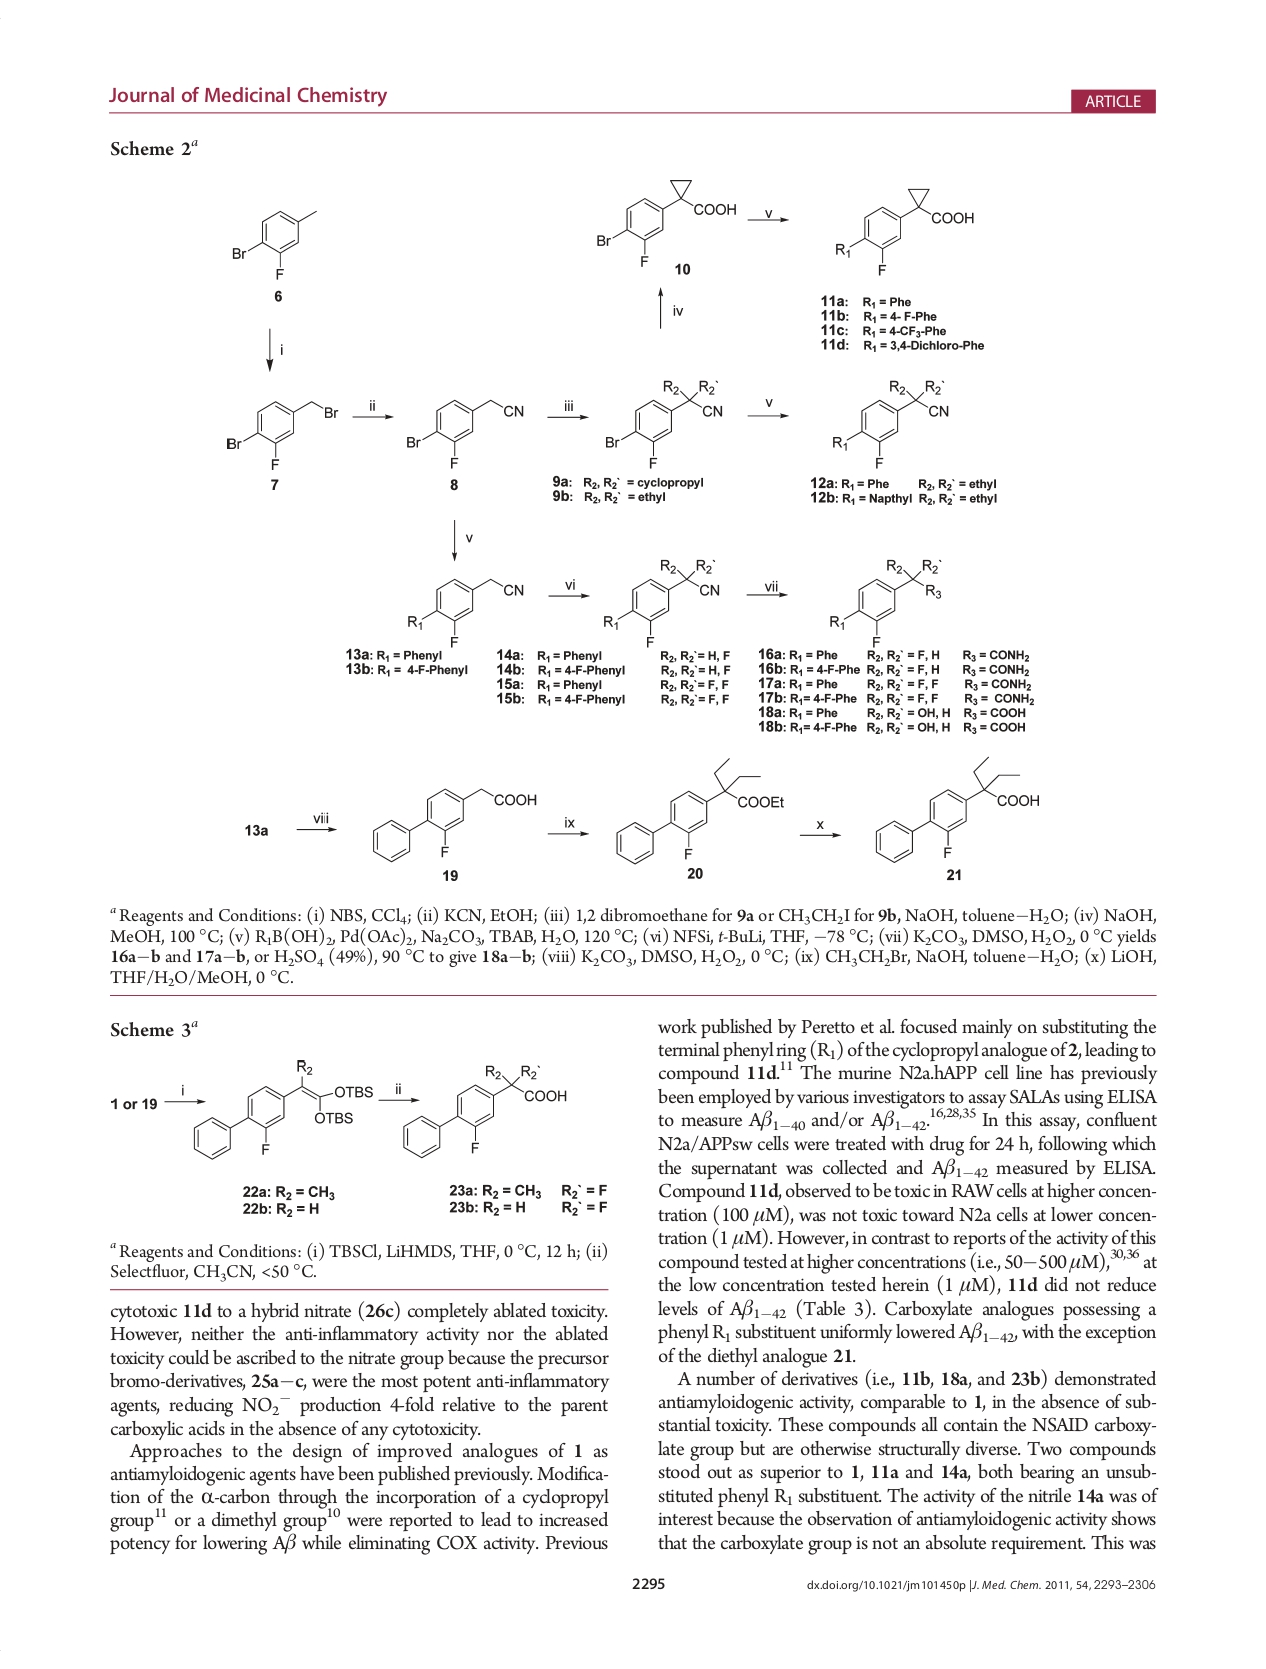exist_molecular: (191, 1057, 376, 1164), (612, 755, 789, 866), (872, 754, 1047, 866), (398, 1063, 569, 1160), (364, 781, 540, 864), (593, 174, 742, 270), (830, 181, 975, 277), (824, 370, 953, 472), (598, 375, 726, 471), (826, 555, 948, 648), (598, 556, 723, 646), (398, 388, 528, 469), (219, 391, 344, 472), (399, 572, 527, 648), (217, 199, 326, 281)
